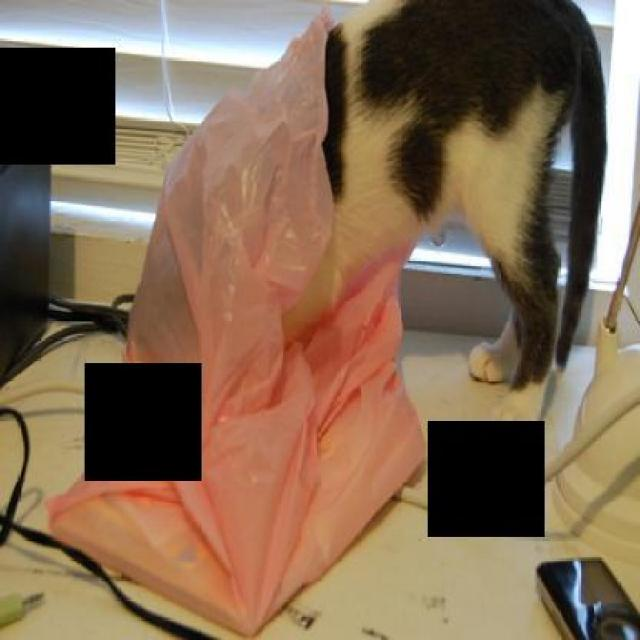plastic bag: (46, 0, 432, 634)
